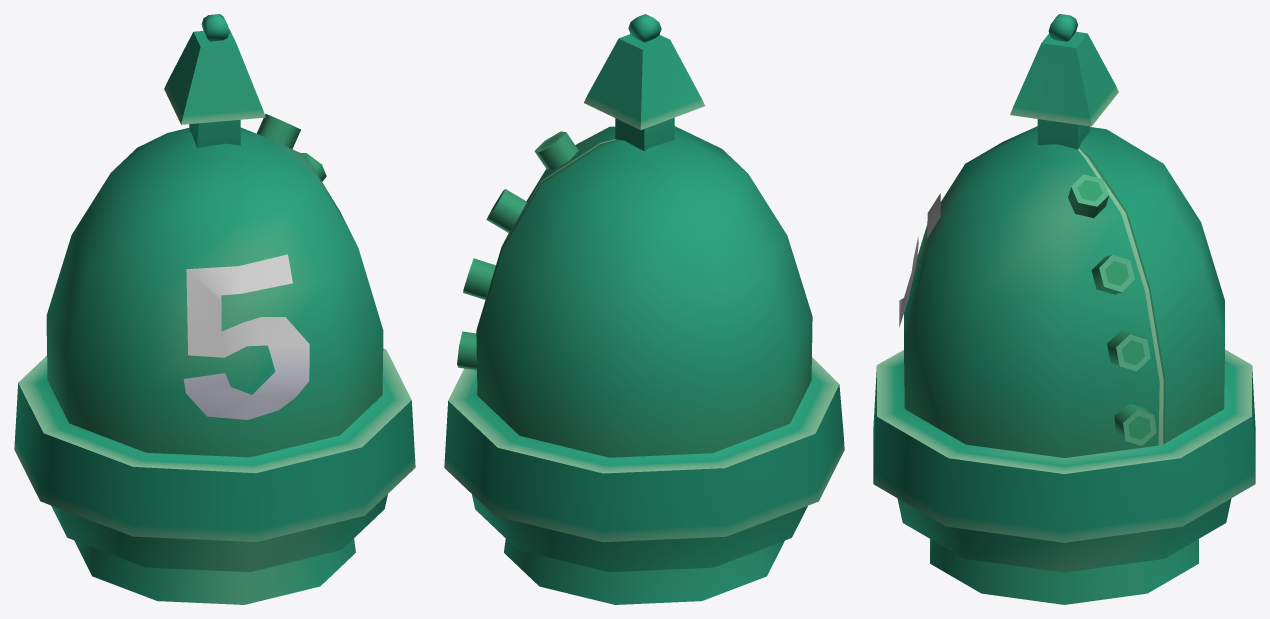
Rendered from BuoyFive.glb.
The picture shows the model from 3 angles, left to right: view 1: azimuth 30°, elevation 25°; view 2: azimuth 150°, elevation 25°; view 3: azimuth 270°, elevation 25°; orthographic projection.
Parts seen in each view (by area): view 1: BuoyFive; view 2: BuoyFive; view 3: BuoyFive.
Part boxes in pixels (box(x1,y1,x2,y2)): BuoyFive: box(14, 14, 415, 604); BuoyFive: box(444, 14, 844, 604); BuoyFive: box(873, 14, 1255, 604).
Bounding box in the file's own units: 0.6018 × 0.8748 × 0.5724.
